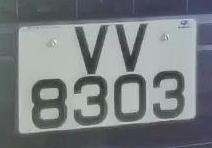0: (106, 69, 155, 126)
3: (149, 63, 191, 126), (67, 73, 114, 129)
8: (25, 71, 71, 135)
V: (109, 18, 154, 73), (71, 18, 113, 76)
